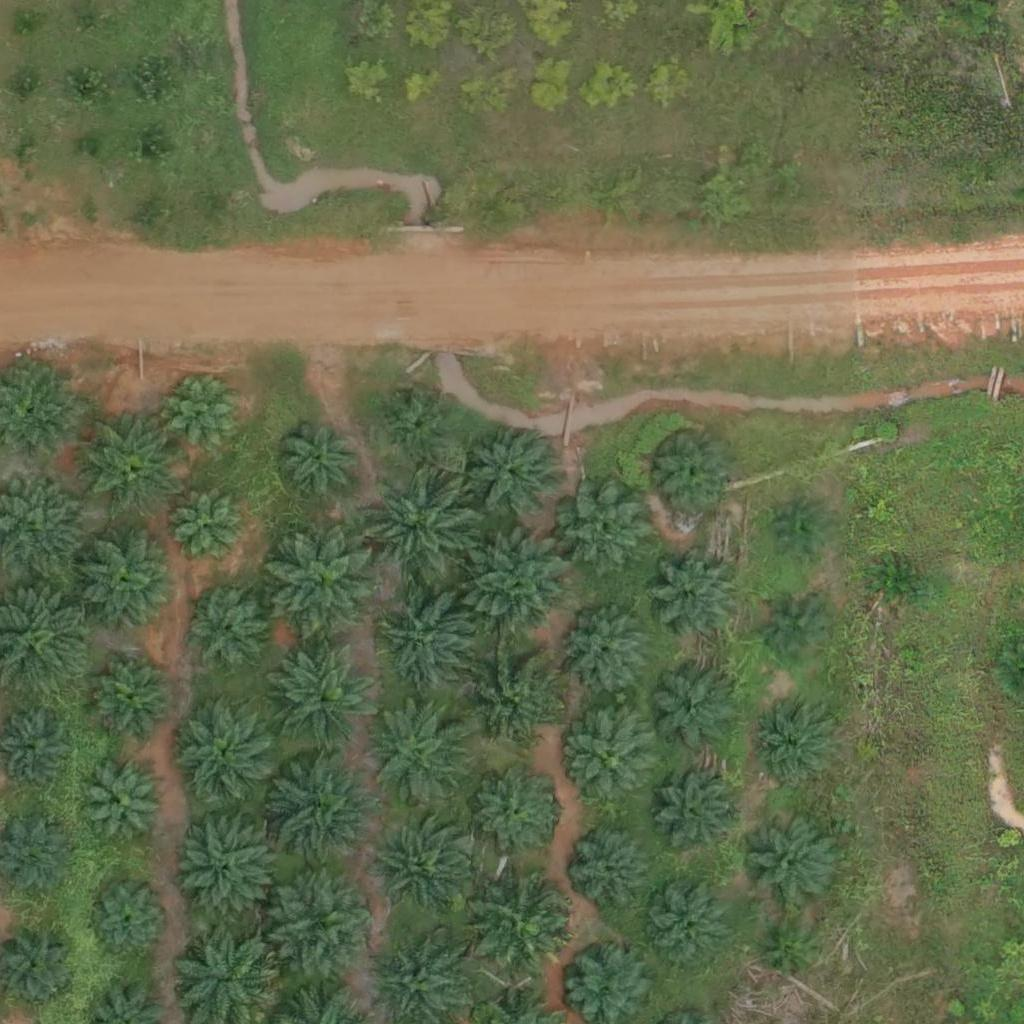Kelapa_Sawit: (366, 458, 491, 583), (268, 522, 381, 635), (273, 641, 386, 754), (267, 750, 380, 863), (267, 868, 379, 982), (80, 413, 180, 514), (381, 588, 481, 689), (371, 703, 471, 804), (371, 824, 471, 925), (469, 534, 569, 635), (461, 650, 561, 751), (475, 873, 575, 974), (80, 533, 180, 633), (177, 700, 277, 800), (180, 814, 280, 914), (567, 712, 655, 801), (470, 432, 558, 520), (471, 767, 559, 855), (567, 824, 655, 912), (750, 699, 838, 787), (277, 418, 364, 507), (165, 371, 252, 459), (88, 877, 175, 965), (561, 486, 648, 574), (563, 611, 650, 699), (651, 553, 738, 641), (649, 666, 736, 754), (649, 768, 736, 856), (643, 886, 730, 974), (750, 818, 837, 906), (656, 432, 731, 508), (1, 709, 76, 785), (93, 662, 168, 738), (88, 766, 163, 842), (195, 595, 270, 671), (170, 488, 245, 563), (767, 598, 829, 661), (390, 395, 452, 458), (868, 552, 930, 614), (763, 928, 813, 979), (777, 508, 827, 558)
